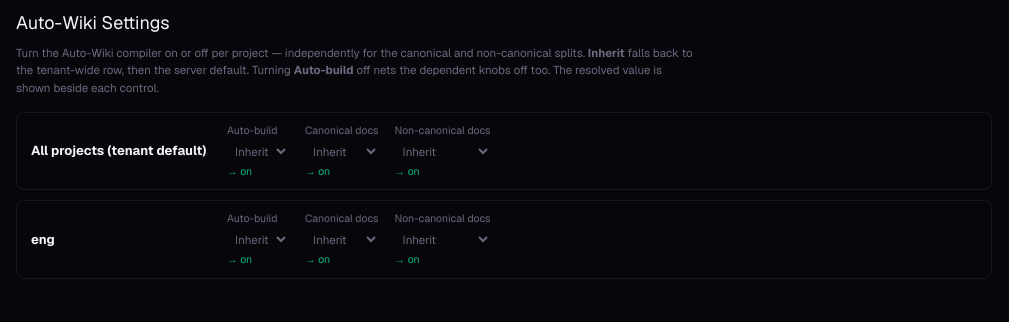
Test case: AutoWikiSettingsView › surfaces a save error in the DOM (not silent)
The width and height of the screenshot is (1009, 322).
Select "Off" in the dropdown with test id "admin-autowiki-setting-eng-enabled" at (258, 240), box [227,229,289,250]
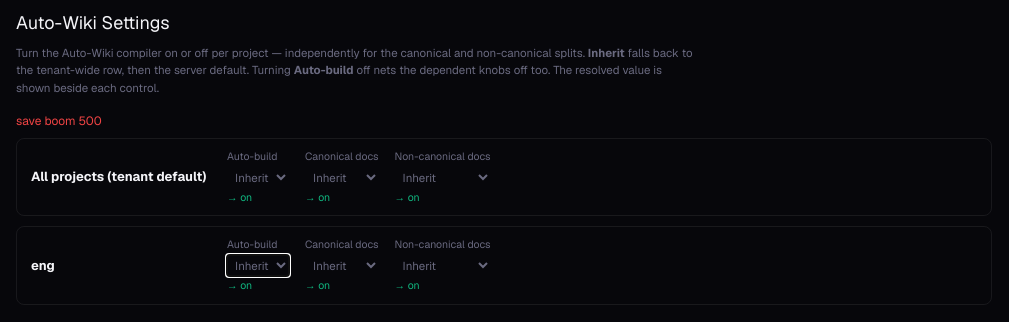
Result: the message with test id "admin-autowiki-settings-save-error" reads "save boom 500" at [16,113,102,129]
